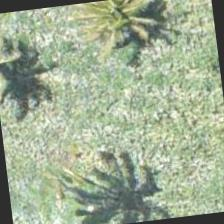Kelapa_Sawit: (15, 122, 115, 222), (60, 0, 157, 58)
